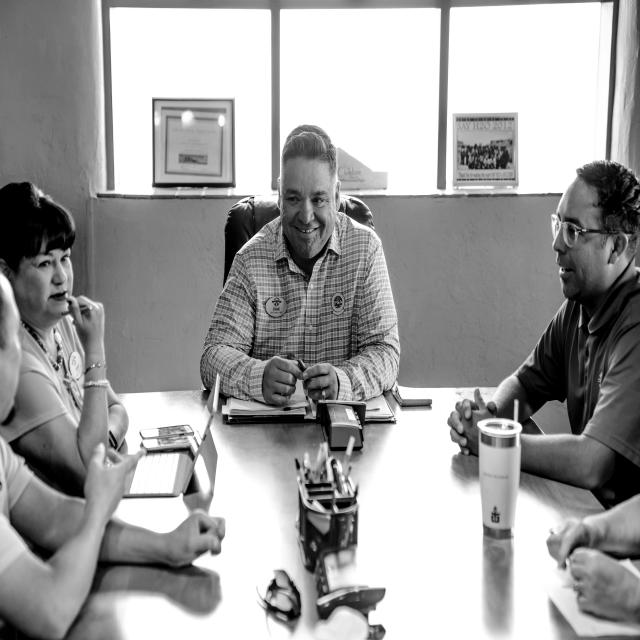No-Vest: (227, 221, 387, 396), (555, 299, 640, 474)
